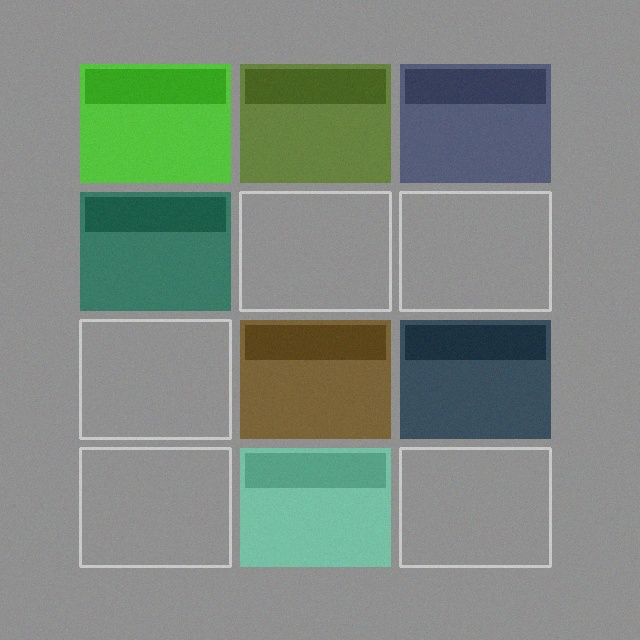space-empty: (240, 192, 390, 310), (400, 192, 550, 310), (80, 320, 230, 438), (80, 448, 230, 566), (400, 448, 550, 566)
space-occupied: (80, 64, 230, 182), (240, 64, 390, 182), (400, 64, 550, 182), (80, 192, 230, 310), (240, 320, 390, 438), (400, 320, 550, 438), (240, 448, 390, 566)
